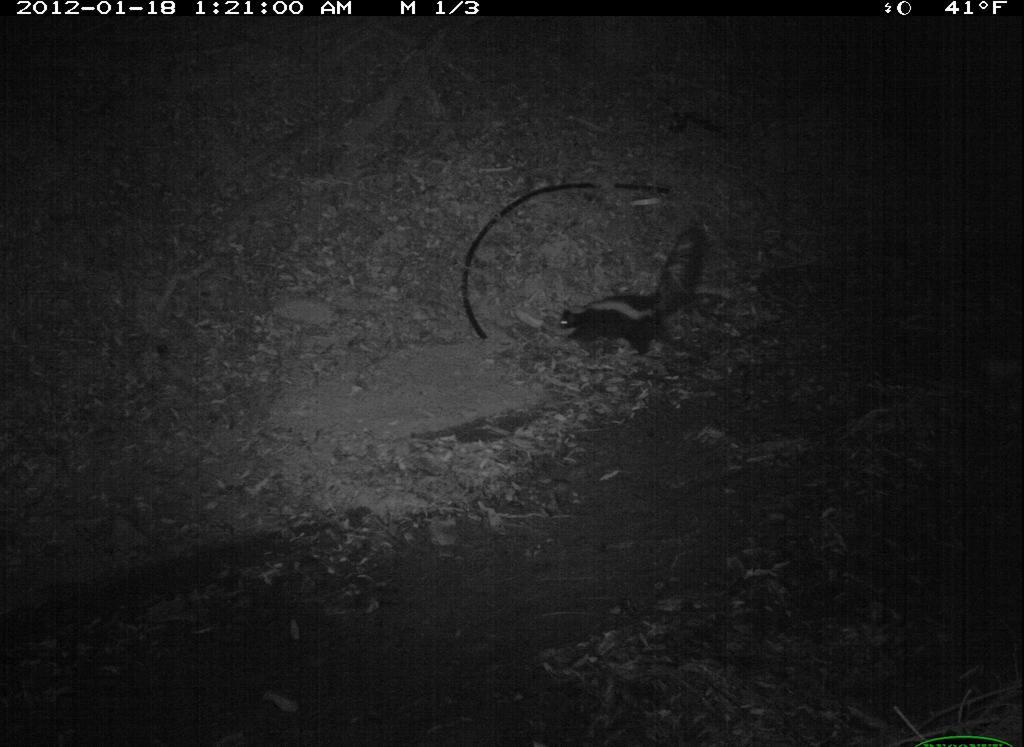skunk: (547, 218, 721, 373)
